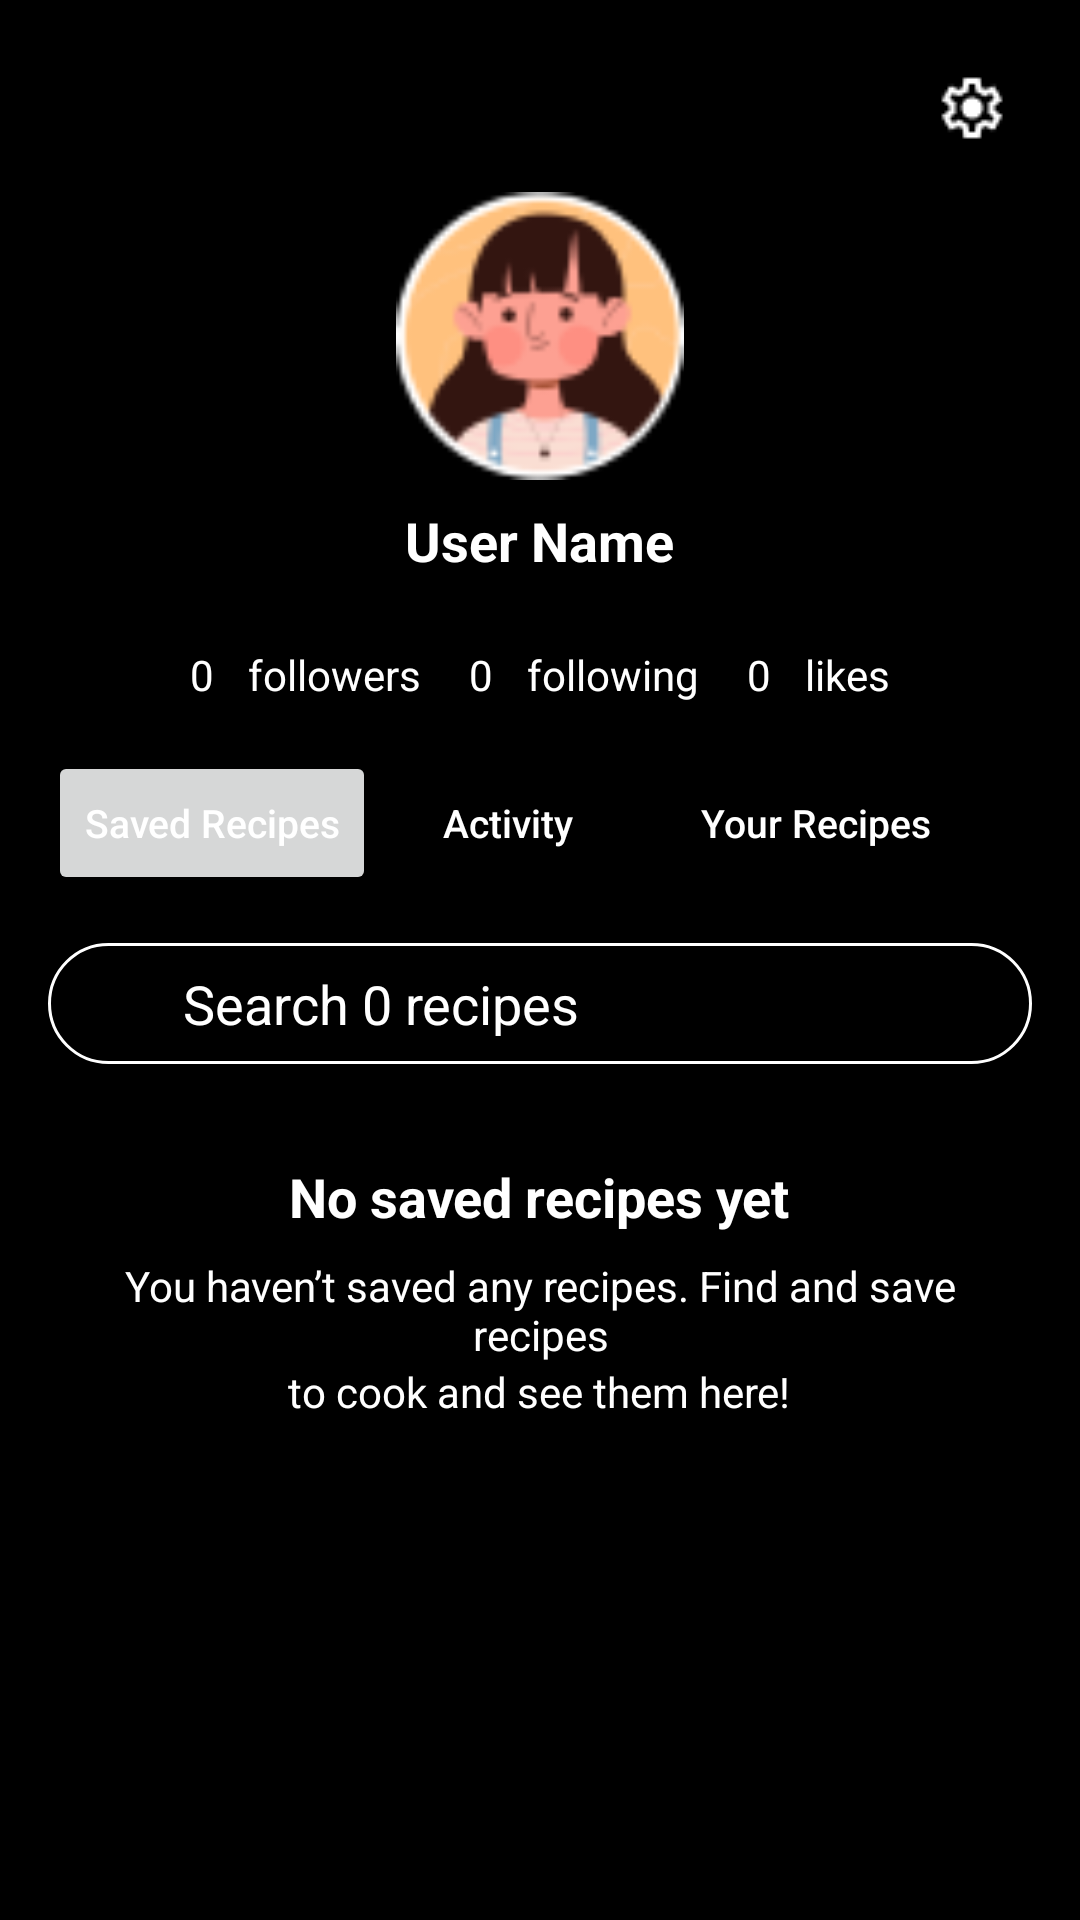

Where to tap for icons on this 1080px x 1920px app screen, as (x=x, y=y):
Profile Picture: (x=540, y=336)
Settings: (x=972, y=108)
